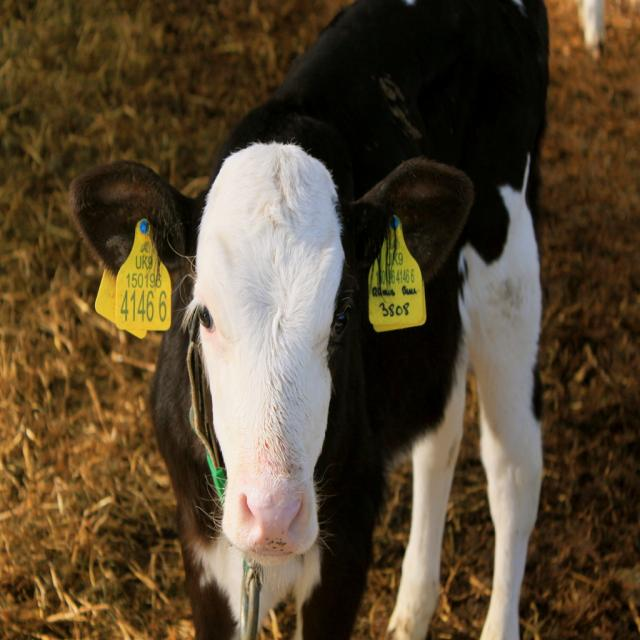Cattle: (68, 0, 550, 640), (578, 0, 606, 60)
